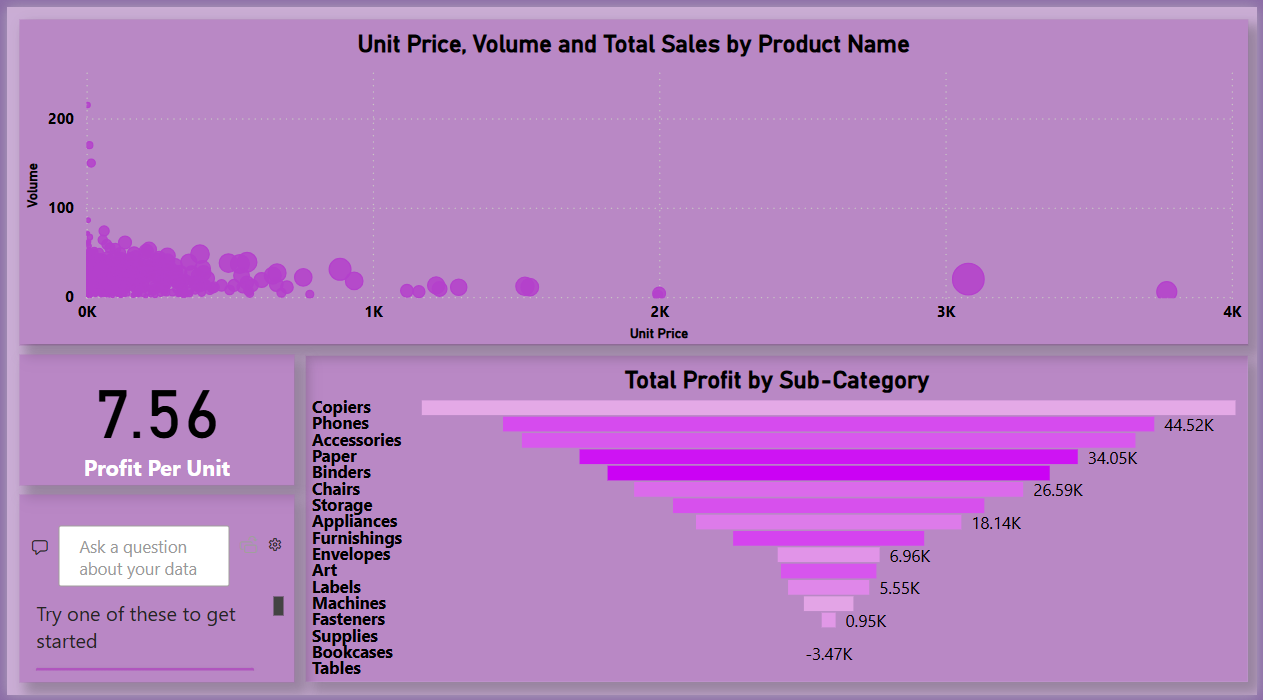

What the dashboard file says about the page in this screenshot:
{"tool":"powerbi","page":{"name":"page 5","canvas":[1000,550],"ordinal":4},"visuals":[{"type":"shape","box":[239,279,754,261],"z":0},{"type":"shape","box":[10,10,983,261],"z":1000},{"type":"scatterChart","fields":{"X":["Sample - Superstore.Unit Price"],"Y":["Sample - Superstore.Volume"],"Category":["Sample - Superstore.Product Name"],"Size":["Sample - Superstore.Total Sales"]},"box":[10,10,983,260],"z":2000},{"type":"funnel","fields":{"Category":["Sample - Superstore.Sub-Category"],"Y":["Sample - Superstore.Total Profit"]},"box":[239,279,754,261],"z":3000},{"type":"card","fields":{"Values":["Sample - Superstore.Profit Per Unit"]},"box":[10,278.2,220,104.5],"z":4000},{"type":"qnaVisual","box":[10,390,220,150],"z":5000}]}

Visuals, with their boxes in screenshot pixels (x1, y1, x2, y2), scaled from the page's 1000x550 canvas onto the 1263x700 screenshot:
shape: x1=302 y1=355 x2=1254 y2=687
shape: x1=13 y1=13 x2=1254 y2=345
scatterChart - Sample - Superstore.Unit Price x Sample - Superstore.Volume: x1=13 y1=13 x2=1254 y2=344
funnel - Sample - Superstore.Sub-Category x Sample - Superstore.Total Profit: x1=302 y1=355 x2=1254 y2=687
card - Sample - Superstore.Profit Per Unit: x1=13 y1=354 x2=290 y2=487
qnaVisual: x1=13 y1=496 x2=290 y2=687
